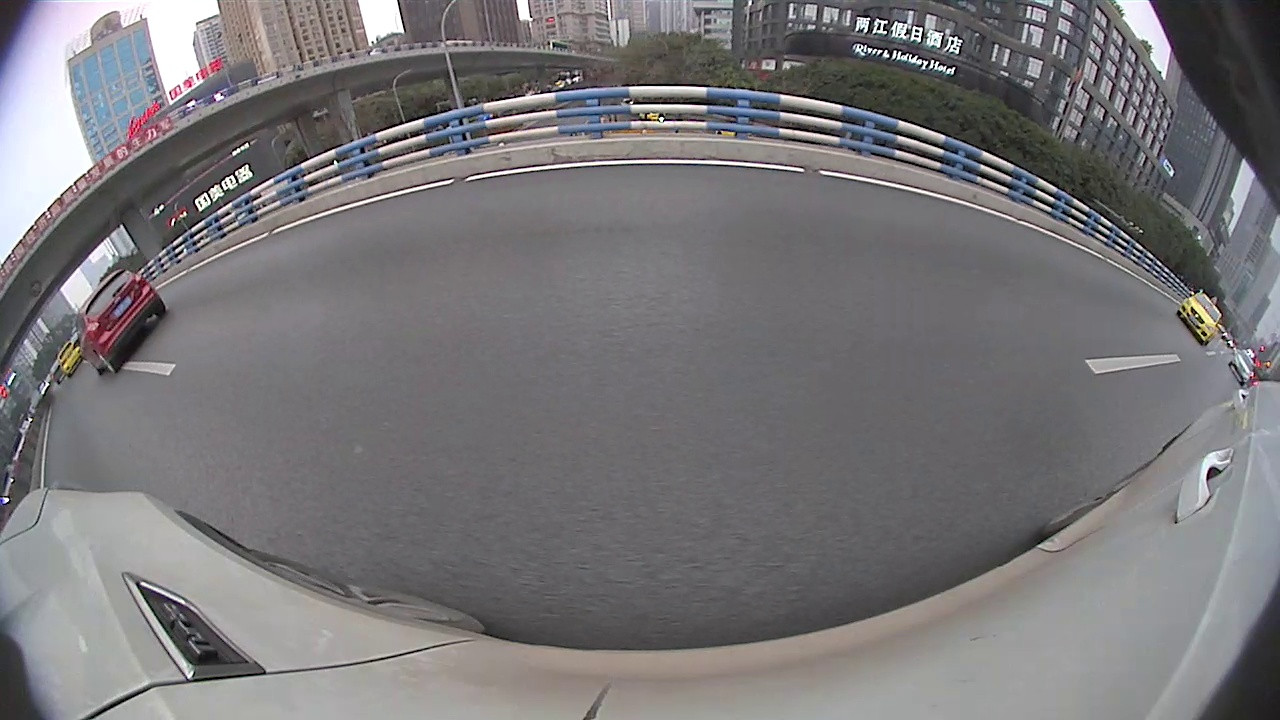car: (249, 111, 528, 296), (819, 127, 1094, 291), (599, 123, 752, 242), (1088, 239, 1235, 358), (765, 144, 857, 208), (1221, 338, 1278, 423), (526, 159, 581, 201), (749, 160, 777, 192), (573, 163, 599, 188)
front: (822, 187, 850, 230), (512, 189, 525, 226), (767, 175, 774, 199)
rear: (929, 217, 984, 285), (407, 213, 451, 281), (1172, 317, 1201, 353), (791, 179, 801, 206)
